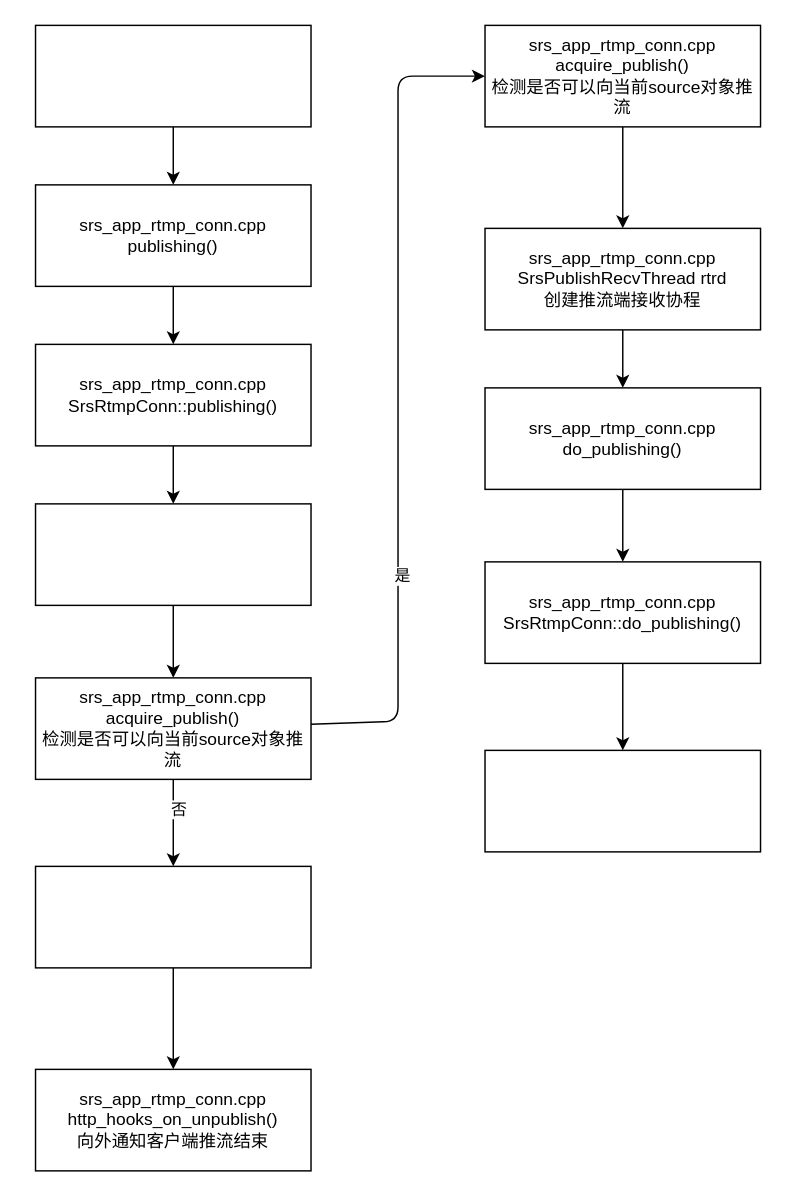
Image size: 786x1196. Some labels were removed from this diagram. Here are the shapes that lost their labels. From the top down, the centre of each, then its label:
At point (172, 75): "srs_app_rtmp_conn.cpp SrsRtmpConn::stream_service_cycle()".
At point (172, 553): "srs_app_rtmp_conn.cpp http_hooks_on_publish() 回调函数，向外通知客户端推流开始".
At point (622, 800): "srs_app_rtmp_conn.cpp rtrd->start() 启动接收协程".
At point (172, 916): "srs_app_rtmp_conn.cpp release_publish() 推流结束释放source中的推流信息".
